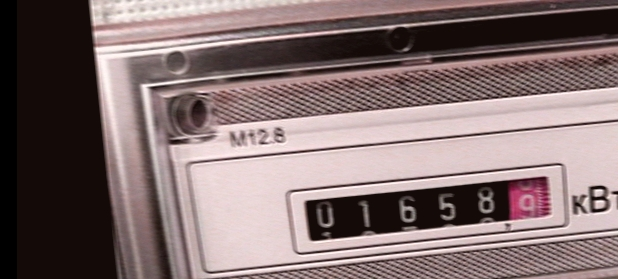0: (314, 197, 338, 231)
1: (358, 197, 374, 230)
5: (438, 190, 460, 223)
6: (398, 193, 421, 226)
8: (476, 184, 499, 217)
9: (518, 192, 538, 219)
screen: (279, 153, 577, 261)
